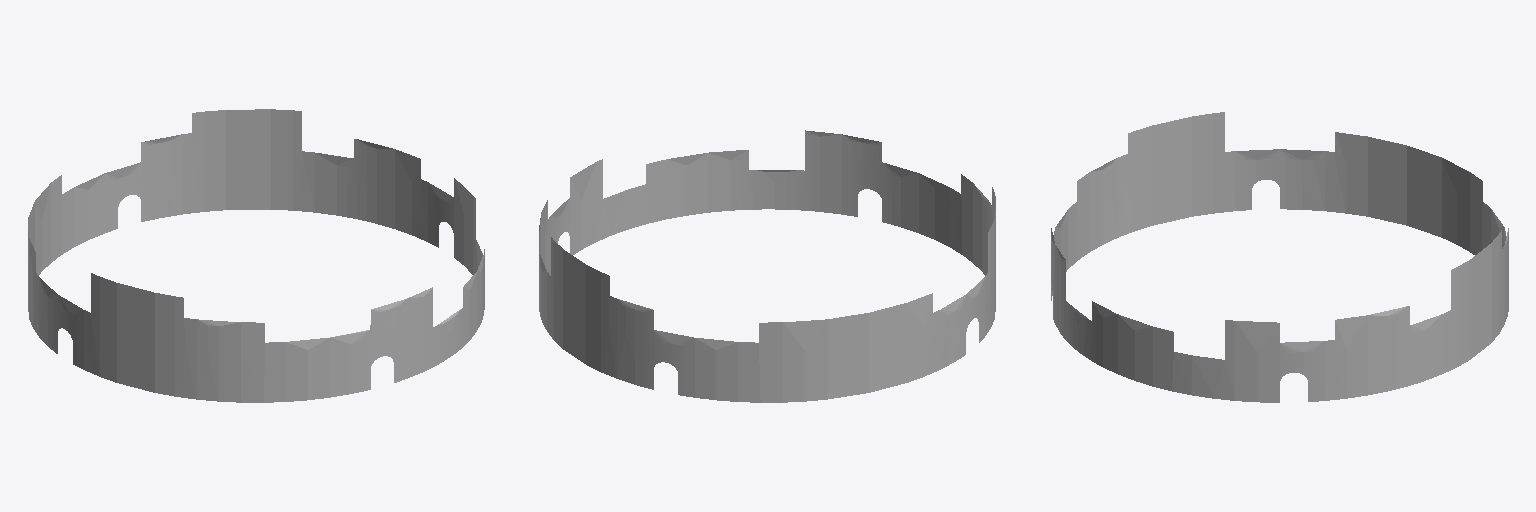
The model's file is WALL_OUTSIDE.obj.
3 views of the same model, side by side, from view 1: azimuth 30°, elevation 25°; view 2: azimuth 150°, elevation 25°; view 3: azimuth 270°, elevation 25° (orthographic).
Size of the model in its own units: 62.01 by 15 by 62.